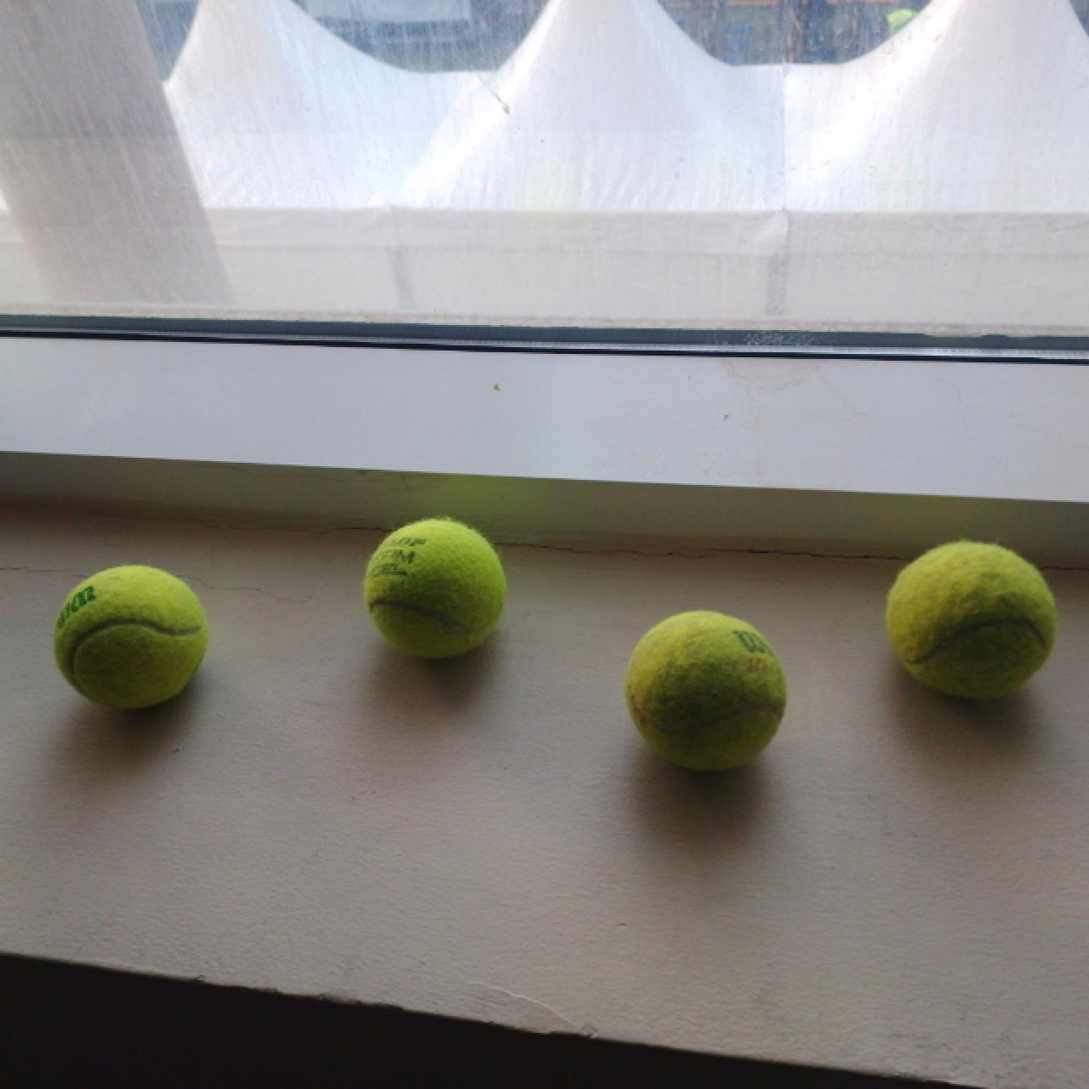tennis-ball: (883, 535, 1059, 696), (621, 610, 787, 772), (52, 562, 209, 710), (363, 514, 510, 660)
